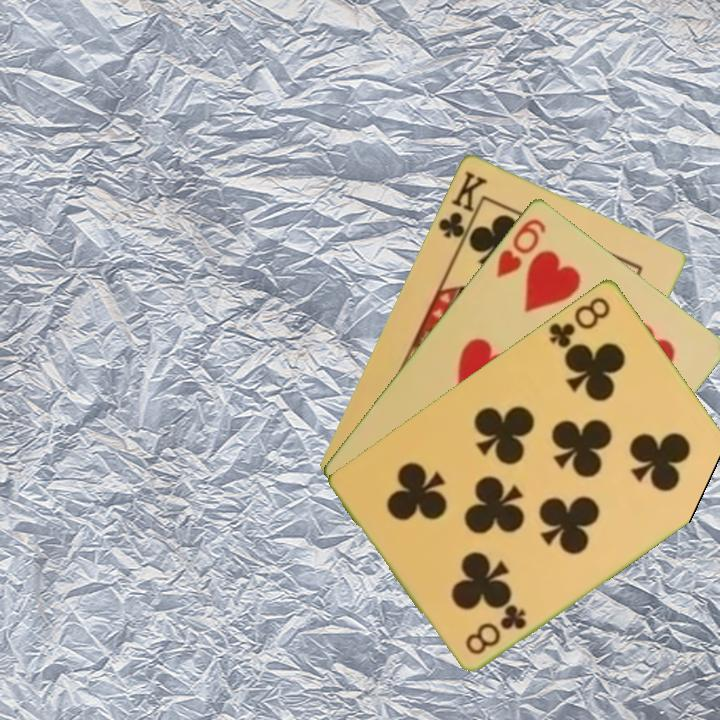6h: (492, 214, 549, 281)
8c: (545, 293, 614, 351), (461, 600, 530, 658)
Kc: (434, 166, 490, 250)
